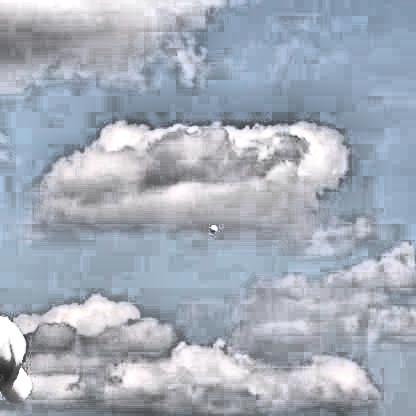golfball: (206, 222, 215, 231)
